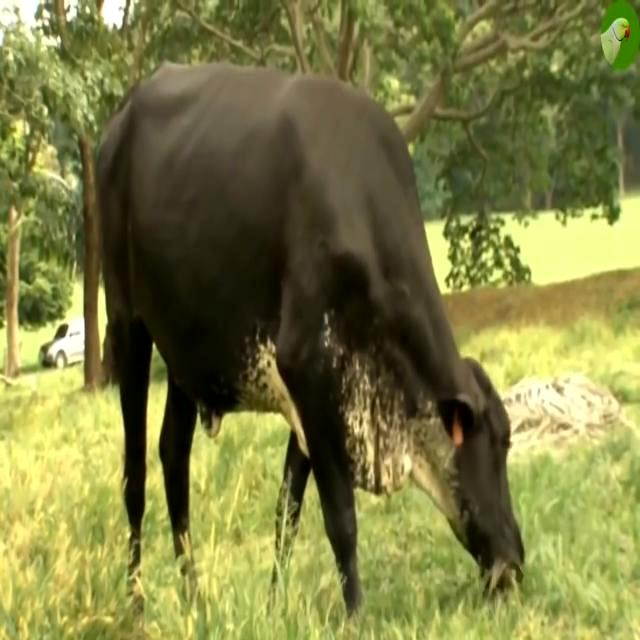COW: (99, 65, 524, 612)
